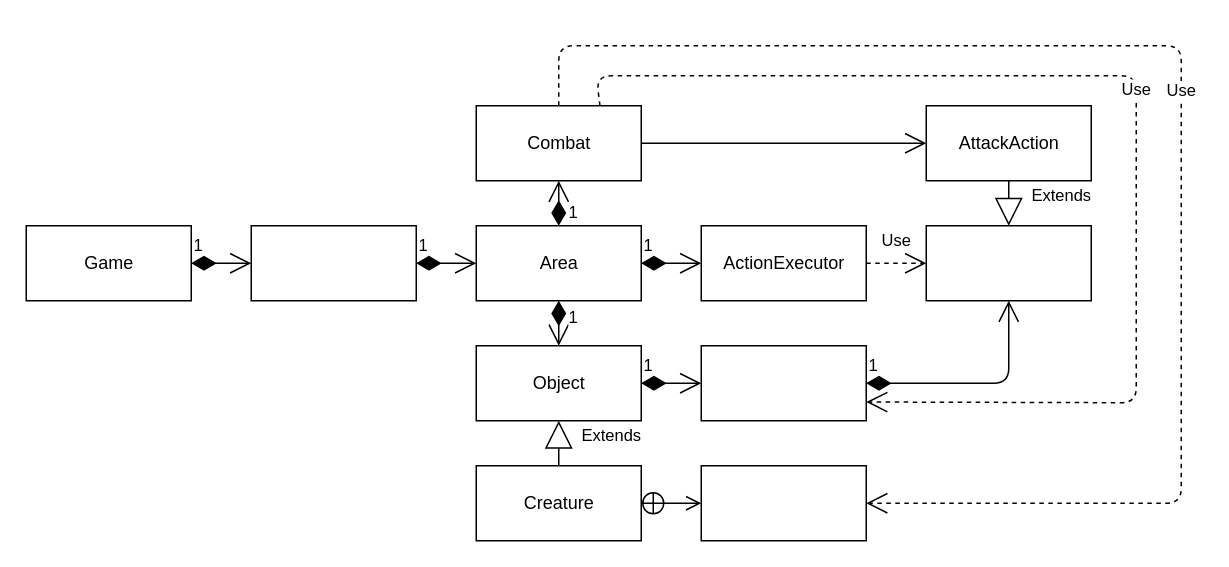
Some shapes in this 1229 by 567 pixel diagram are drawn without their labels. Here are the shapes that lost their labels. From the top down, the centre of each, then its label:
At [333,262]: "Module".
At [1008,262]: "Action".
At [783,382]: "ActionQueue".
At [783,502]: "CombatState".
